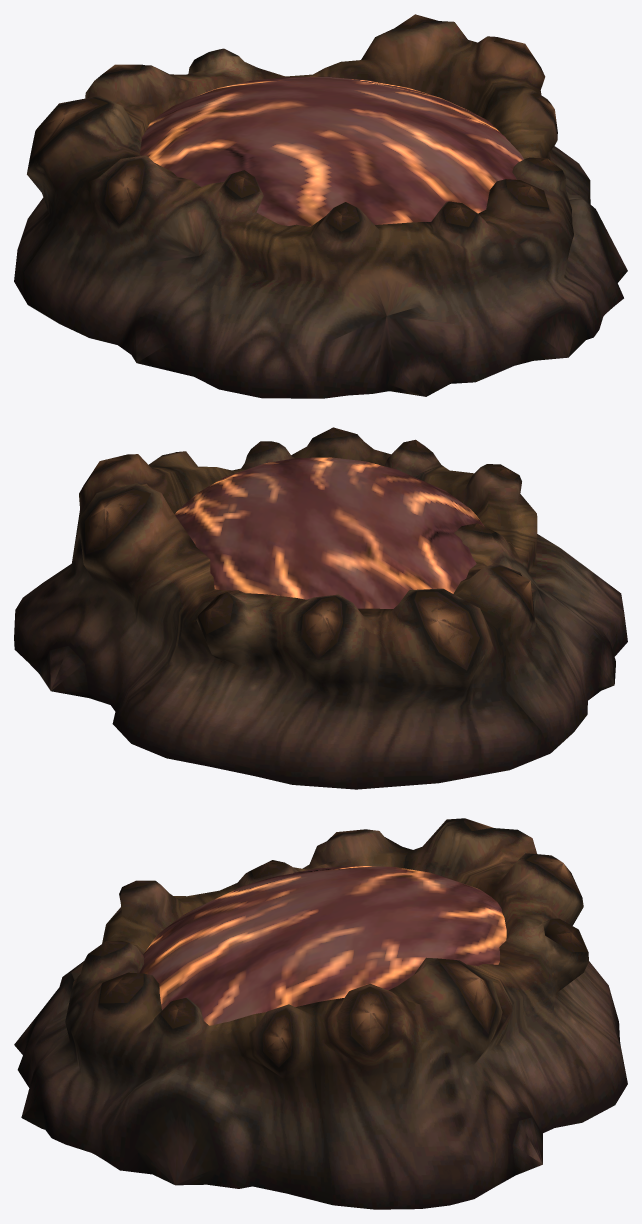
File: FeedingPool.glb
The picture shows the model from 3 angles, top to bottom: view 1: azimuth 30°, elevation 25°; view 2: azimuth 150°, elevation 25°; view 3: azimuth 270°, elevation 25°; orthographic projection. The views are drawn at different scales.
Visible parts, largest first — view 1: Mesh.002, Mesh; view 2: Mesh.002, Mesh; view 3: Mesh.002, Mesh.
Part boxes in pixels (x1=…): Mesh.002: x1=14, y1=14, x2=627, y2=398; Mesh: x1=139, y1=76, x2=523, y2=226; Mesh.002: x1=14, y1=427, x2=627, y2=789; Mesh: x1=174, y1=457, x2=484, y2=608; Mesh.002: x1=14, y1=818, x2=627, y2=1209; Mesh: x1=139, y1=865, x2=506, y2=1025.
Size of the model in its own units: 2.9 by 0.9175 by 2.79.
5 materials, 5 textured.
